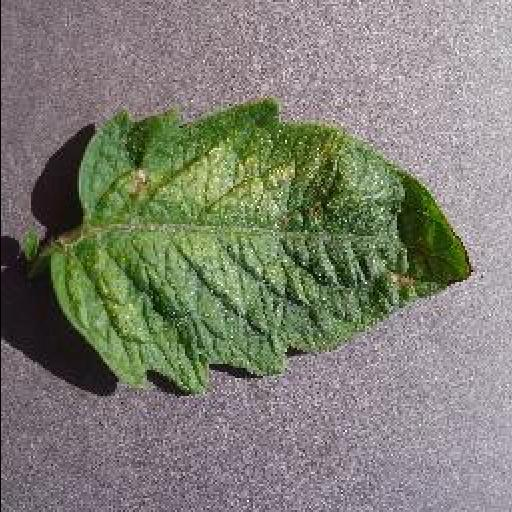disease_tomato: (42, 96, 474, 398)
